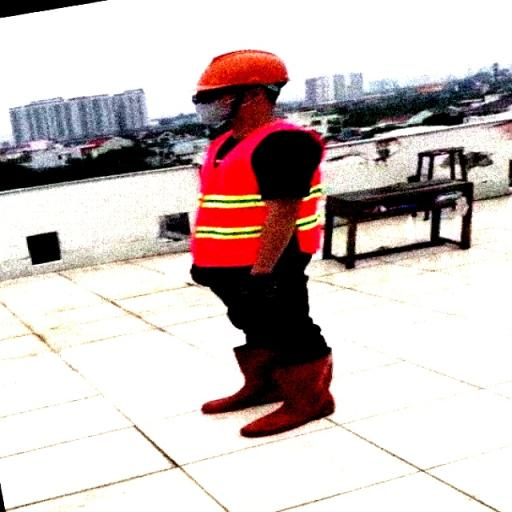Person: (138, 17, 368, 459)
boots: (240, 343, 350, 446), (198, 338, 285, 417)
helmet: (194, 48, 288, 94)
vest: (188, 126, 321, 266)
